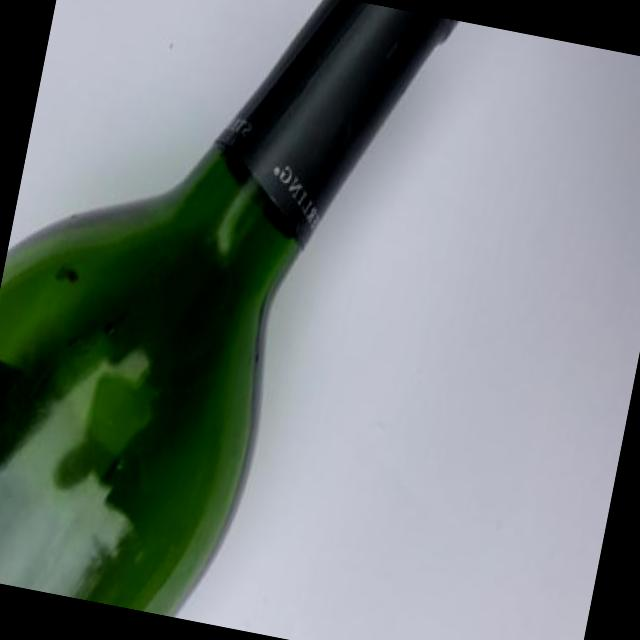chai_thuy_tinh: (0, 0, 458, 617)
